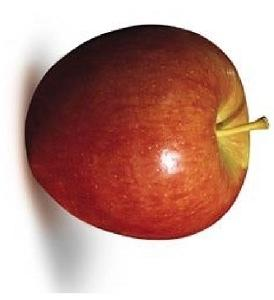apple: (0, 0, 274, 300)
